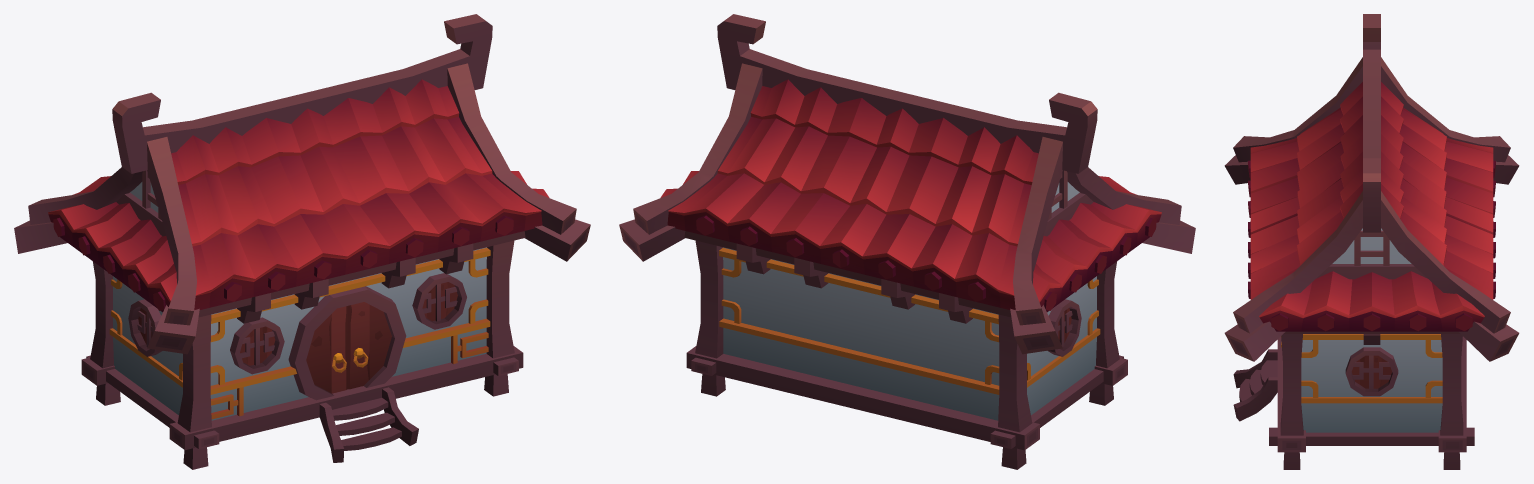
Rendered from building_1.glb.
3 renders of one model, left to right at view 1: azimuth 30°, elevation 25°; view 2: azimuth 150°, elevation 25°; view 3: azimuth 270°, elevation 25°, orthographic. The views are drawn at different scales.
Parts seen in each view (by area): view 1: building_1; view 2: building_1; view 3: building_1.
Boxes of the visible parts, x1=… form: building_1: x1=14, y1=14, x2=590, y2=469; building_1: x1=619, y1=14, x2=1195, y2=469; building_1: x1=1224, y1=14, x2=1519, y2=469.
Bounding box in the file's own units: 4.73 × 3.49 × 3.01.
1 material, 1 textured.
